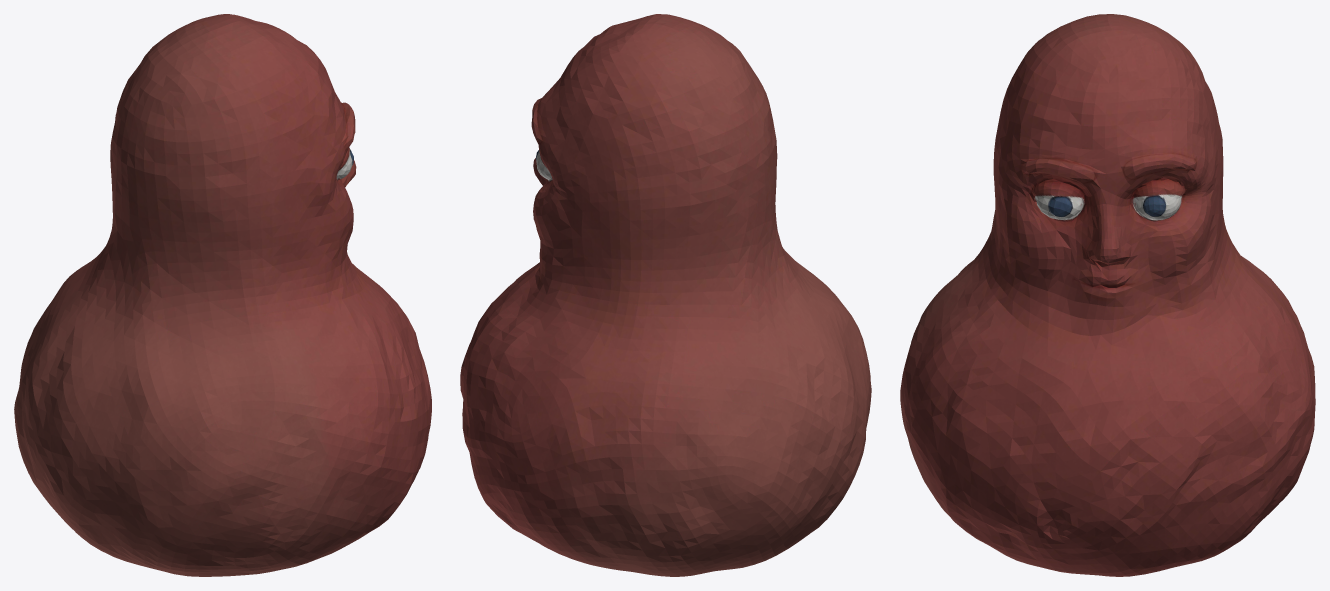
Rendered from joan.glb.
3 renders of one model, left to right at view 1: azimuth 30°, elevation 25°; view 2: azimuth 150°, elevation 25°; view 3: azimuth 270°, elevation 25°, orthographic.
Parts seen in each view (by area): view 1: tripo_node_7cabd09a-c714-4873-8eba-5f292697eb4c; view 2: tripo_node_7cabd09a-c714-4873-8eba-5f292697eb4c; view 3: tripo_node_7cabd09a-c714-4873-8eba-5f292697eb4c.
Boxes of the visible parts, <box> form: tripo_node_7cabd09a-c714-4873-8eba-5f292697eb4c: <box>14,14,431,576</box>; tripo_node_7cabd09a-c714-4873-8eba-5f292697eb4c: <box>460,14,871,576</box>; tripo_node_7cabd09a-c714-4873-8eba-5f292697eb4c: <box>900,14,1315,576</box>.
Size of the model in its own units: 0.7465 by 0.9998 by 0.7439.
Materials: 1 (1 with a texture image).
